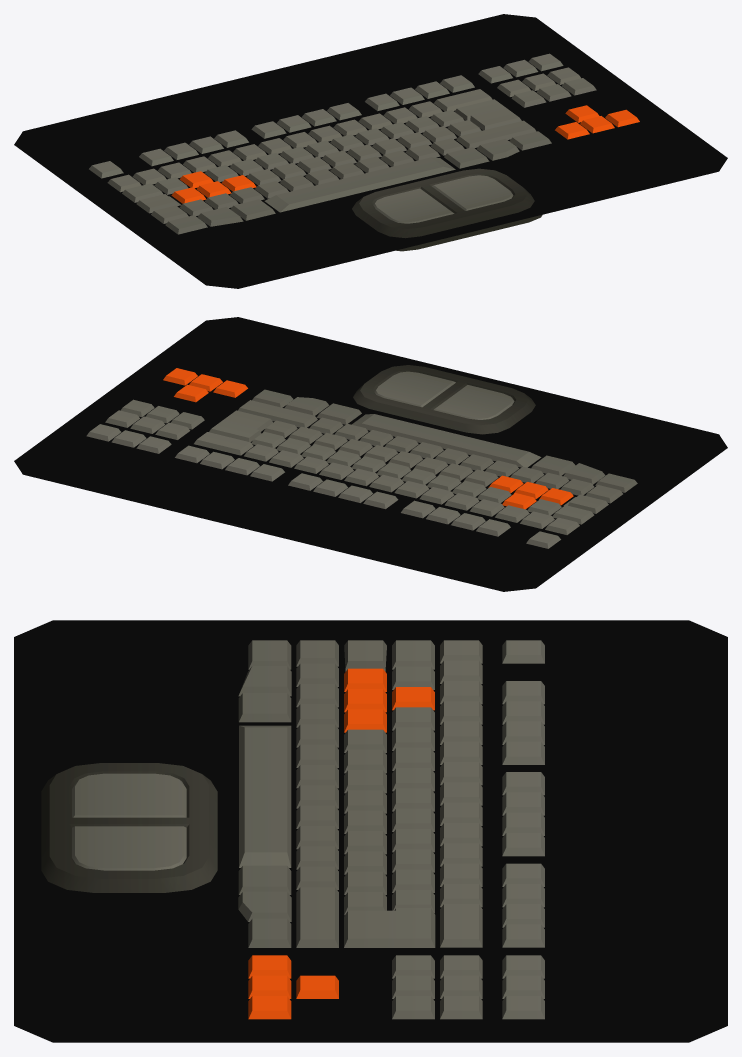
File: Container_05_Storage.fbx
3 views of the same model, one above another, from view 1: azimuth 30°, elevation 25°; view 2: azimuth 150°, elevation 25°; view 3: azimuth 270°, elevation 25° (orthographic). The views are drawn at different scales.
Parts seen in each view (by area): view 1: Container_05_Storage; view 2: Container_05_Storage; view 3: Container_05_Storage.
Part boxes in pixels (x1,y1,x2,y2): Container_05_Storage: (14, 14, 727, 288); Container_05_Storage: (14, 317, 727, 591); Container_05_Storage: (14, 620, 727, 1042).
Size of the model in its own units: 60.78 by 1.67 by 43.44.
